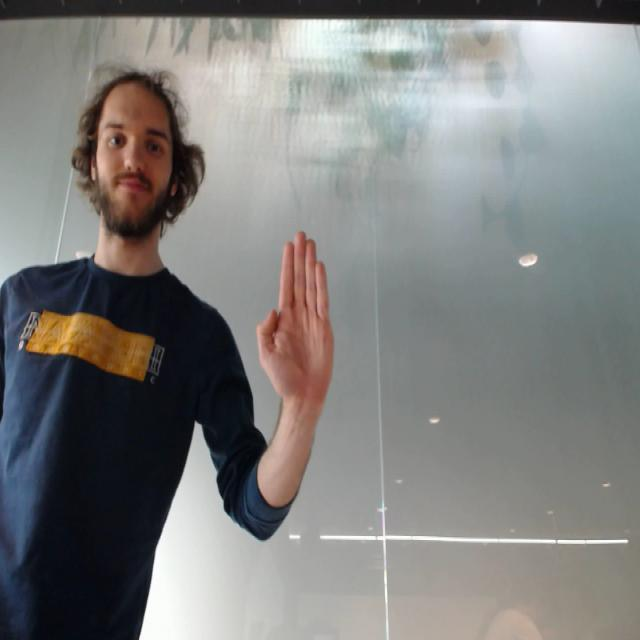backward: (250, 230, 342, 400)
